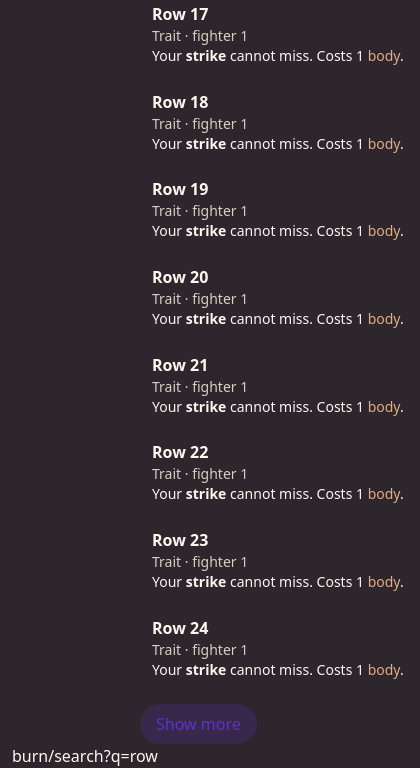
Test case: SearchPage › reveals 25 more rows with Show more
This screenshot has width=420, height=768.
(page scrolled)
Click the button "Show more": (198, 724) x1=140 y1=704 x2=257 y2=744
(page scrolled)
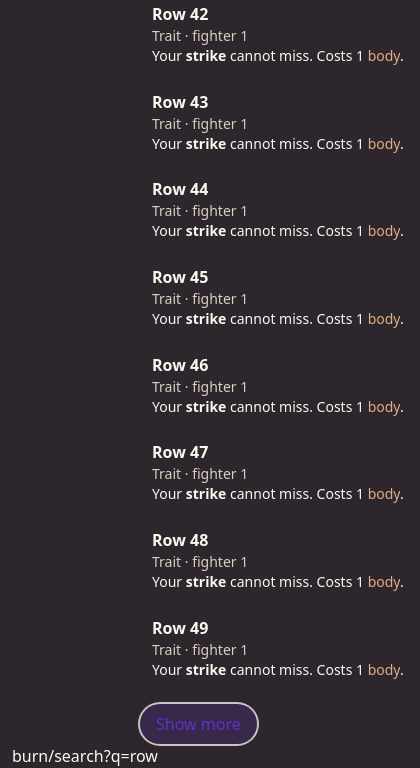
Click the button "Show more": (198, 724) x1=140 y1=704 x2=257 y2=744
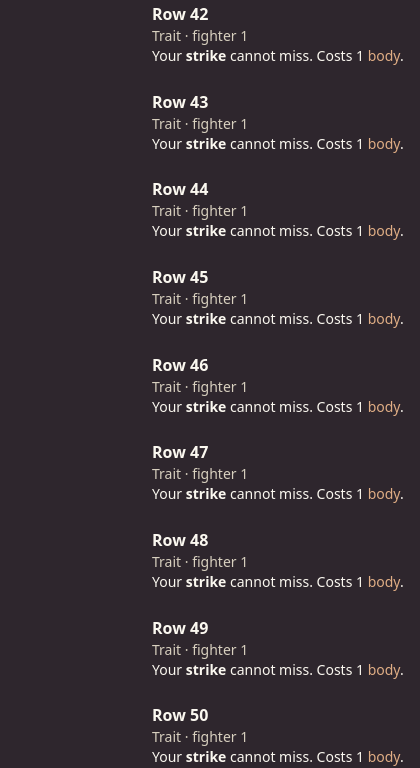
Check: the button "Show more" is gone
